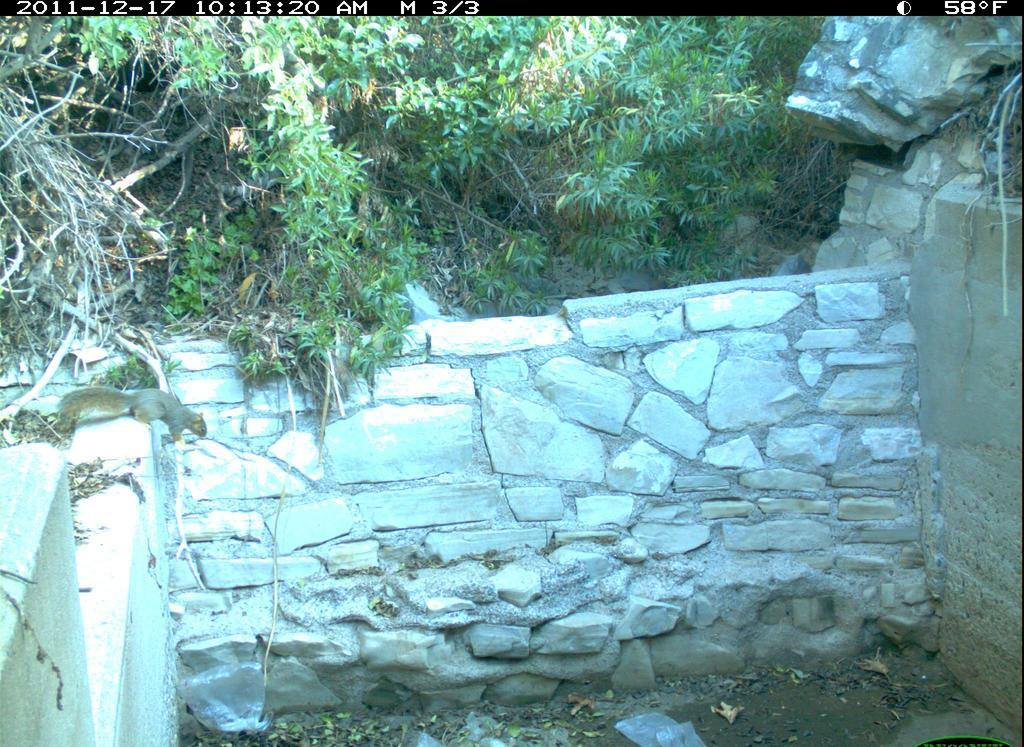squirrel: (50, 382, 214, 456)
